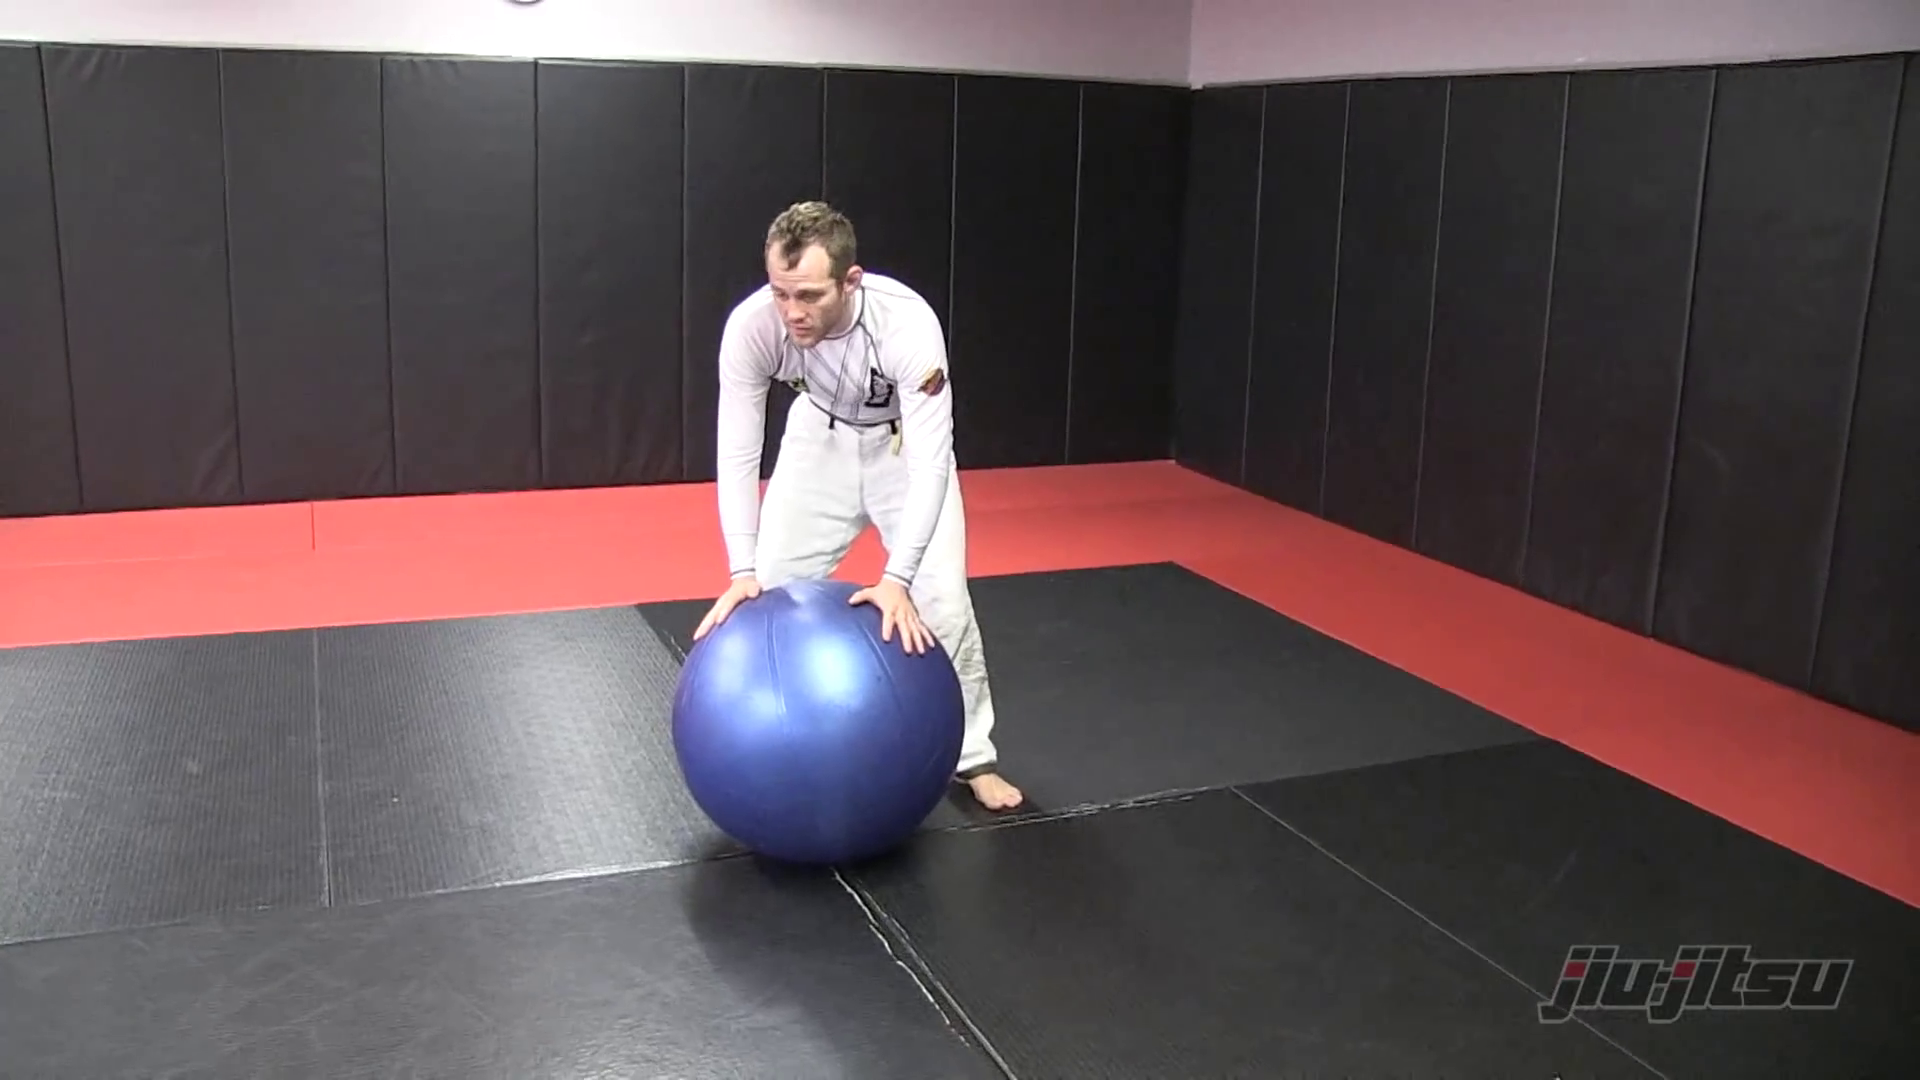yogaball: (638, 560, 981, 878)
